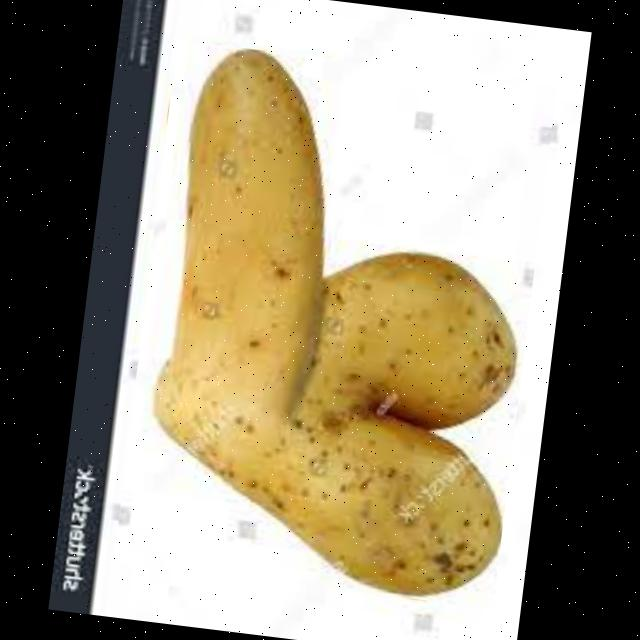Damaged potato: (114, 38, 556, 608)
